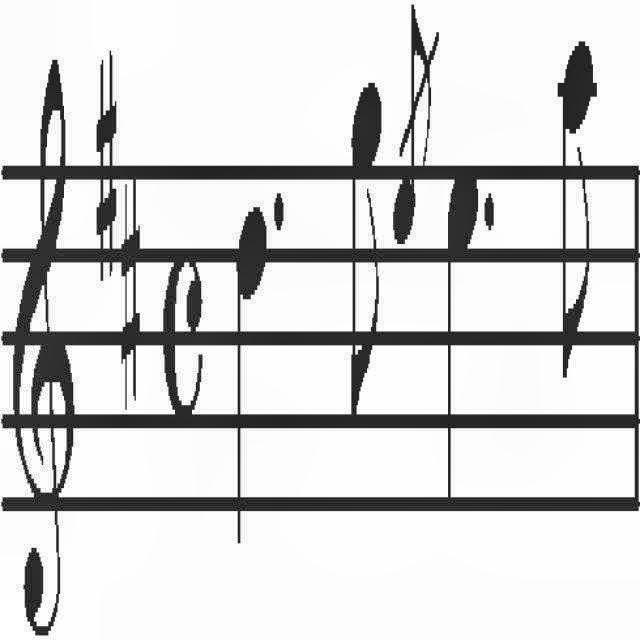Bass-clef: (10, 47, 78, 638)
Diez: (118, 171, 142, 421), (94, 47, 118, 289)
Eighth-note: (559, 32, 597, 388), (349, 70, 386, 426)
Quarter-note: (232, 200, 270, 556), (446, 165, 479, 508)
